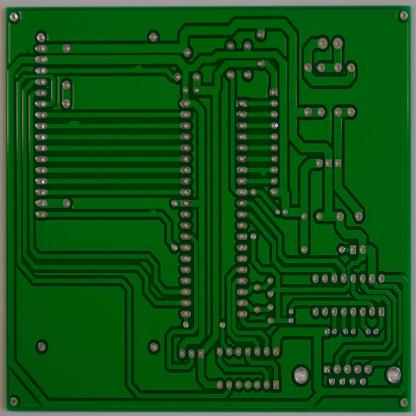spur: (65, 118, 82, 128), (146, 206, 159, 218), (256, 166, 268, 178), (371, 293, 383, 305), (131, 63, 144, 74)
